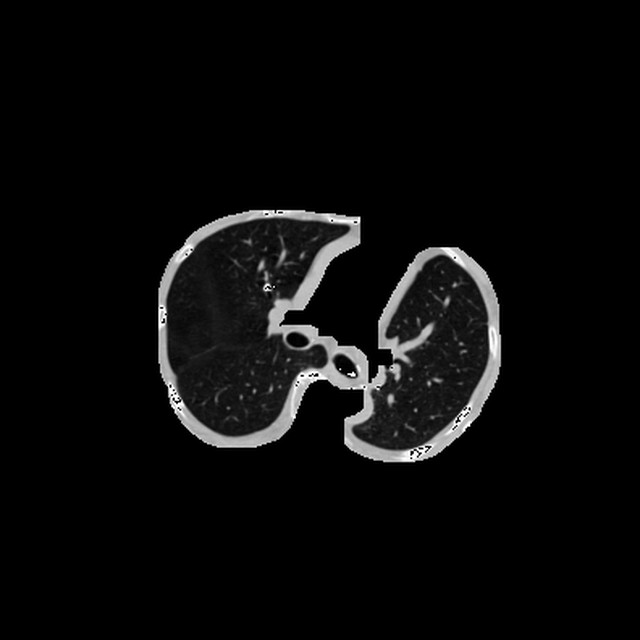PN: (262, 281, 272, 291)
